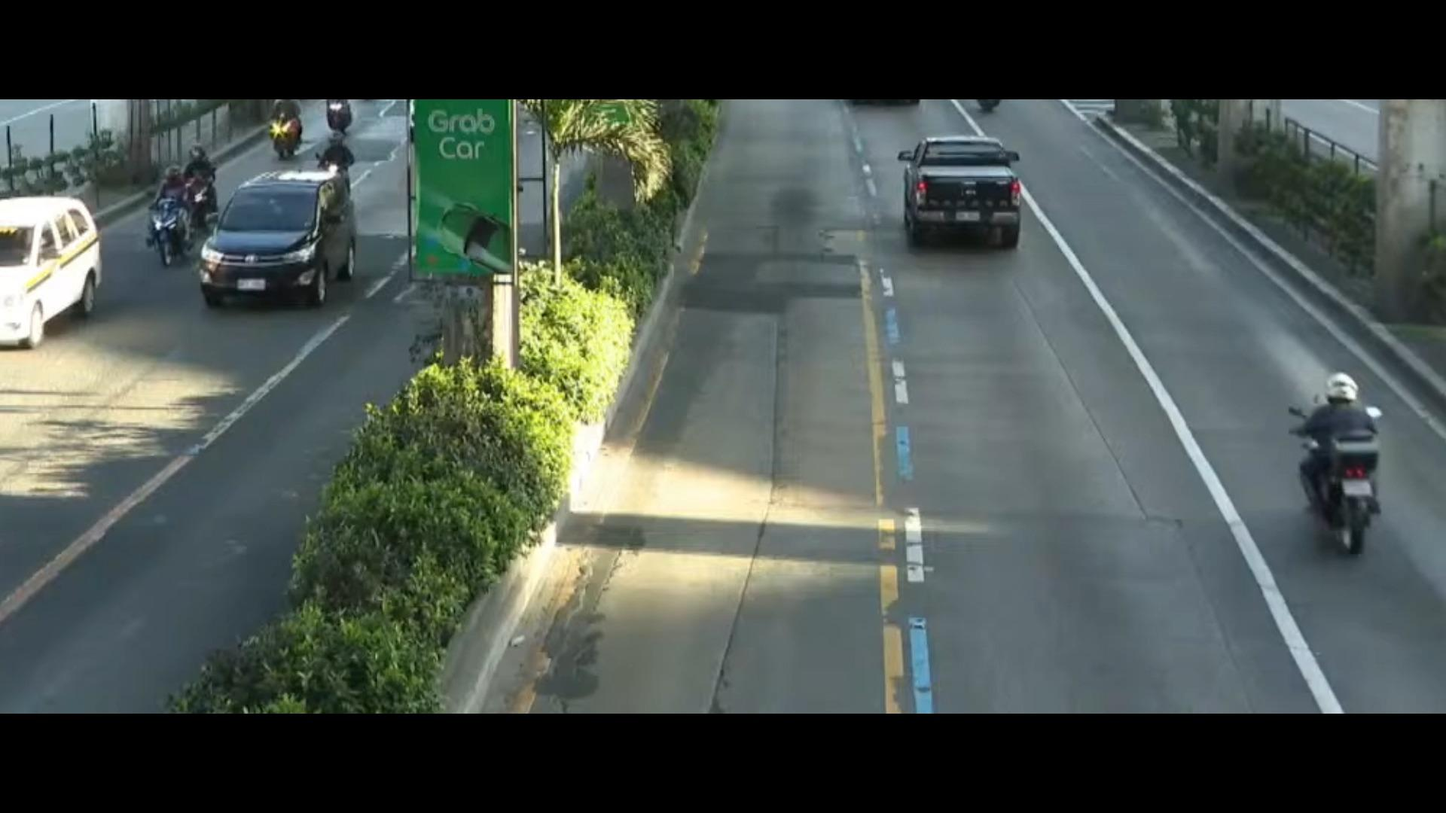Motorcycle: (1268, 360, 1414, 559), (140, 162, 185, 271), (253, 98, 328, 161), (176, 151, 238, 212)
Pickup: (893, 108, 1045, 238)
SUV: (185, 158, 386, 325), (0, 189, 110, 362)
